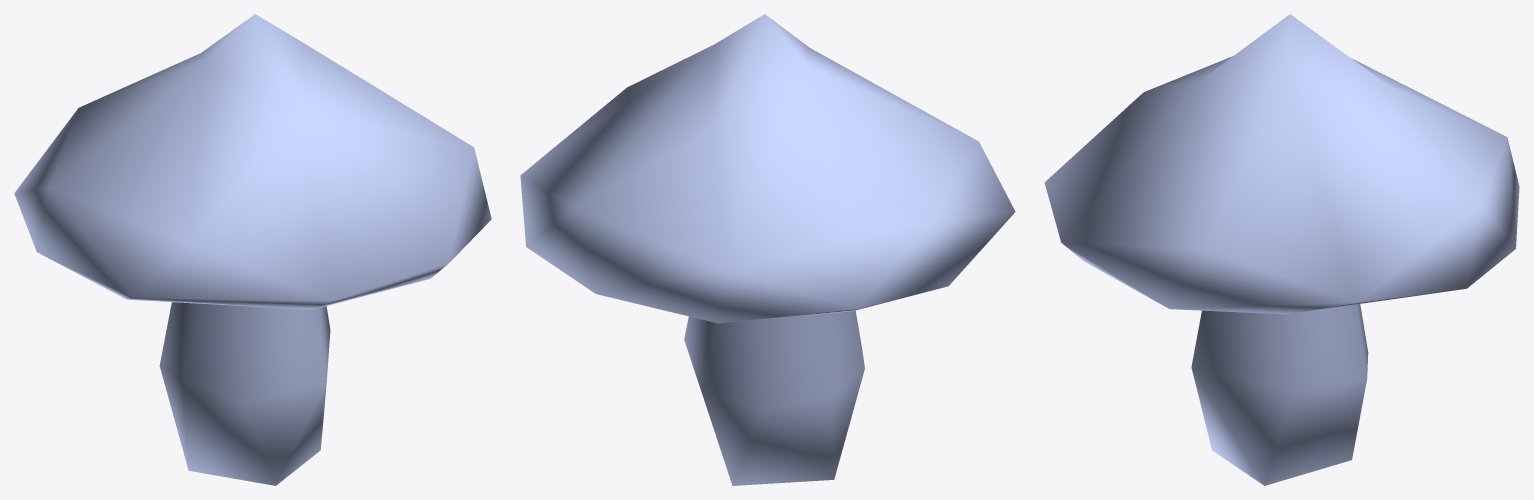
Rendered from small-mushroom-lod2.fbx.
The picture shows the model from 3 angles, left to right: view 1: azimuth 30°, elevation 25°; view 2: azimuth 150°, elevation 25°; view 3: azimuth 270°, elevation 25°; orthographic projection. The views are drawn at different scales.
Parts seen in each view (by area): view 1: small-mushroom-lod2; view 2: small-mushroom-lod2; view 3: small-mushroom-lod2.
Boxes of the visible parts, box(x1,y1,x2,y2) form: small-mushroom-lod2: box(14, 14, 491, 485); small-mushroom-lod2: box(520, 14, 1015, 485); small-mushroom-lod2: box(1044, 14, 1519, 485).
Bounding box in the file's own units: 0.4649 × 0.4823 × 0.4657.
